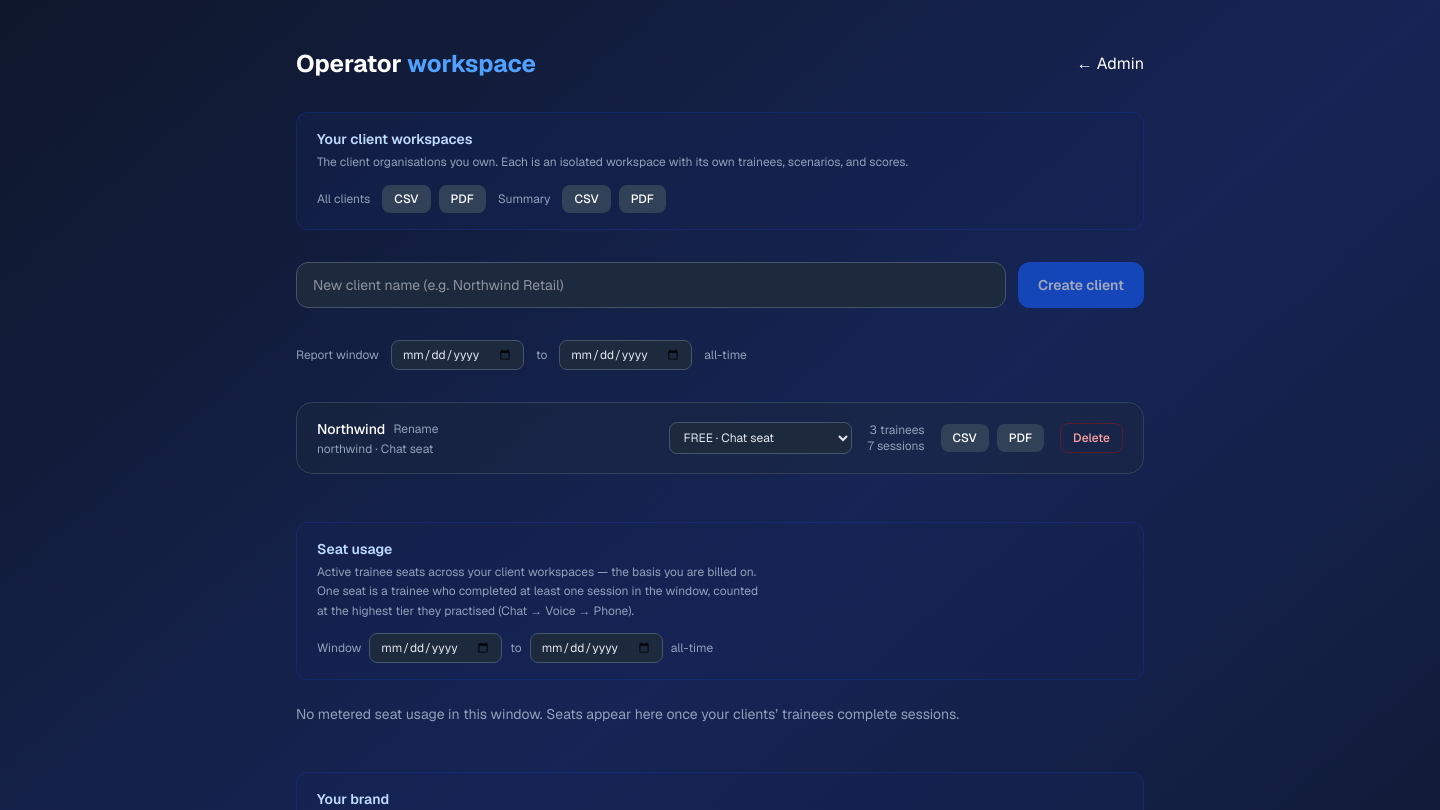
Test: Operator workspace — operator view › allocates a client’s seat tier (PUT /api/orgs/[id]) and reloads
The image size is (1440, 810).
Expected: the text "Northwind" is shown, [317,418,385,438]
Expected: the text "northwind · Chat seat" is shown, [317,440,438,456]
Select "ENTERPRISE · Phone seat" in the dropdown named "Seat tier for Northwind" at x=760, y=438, box [669,422,852,454]
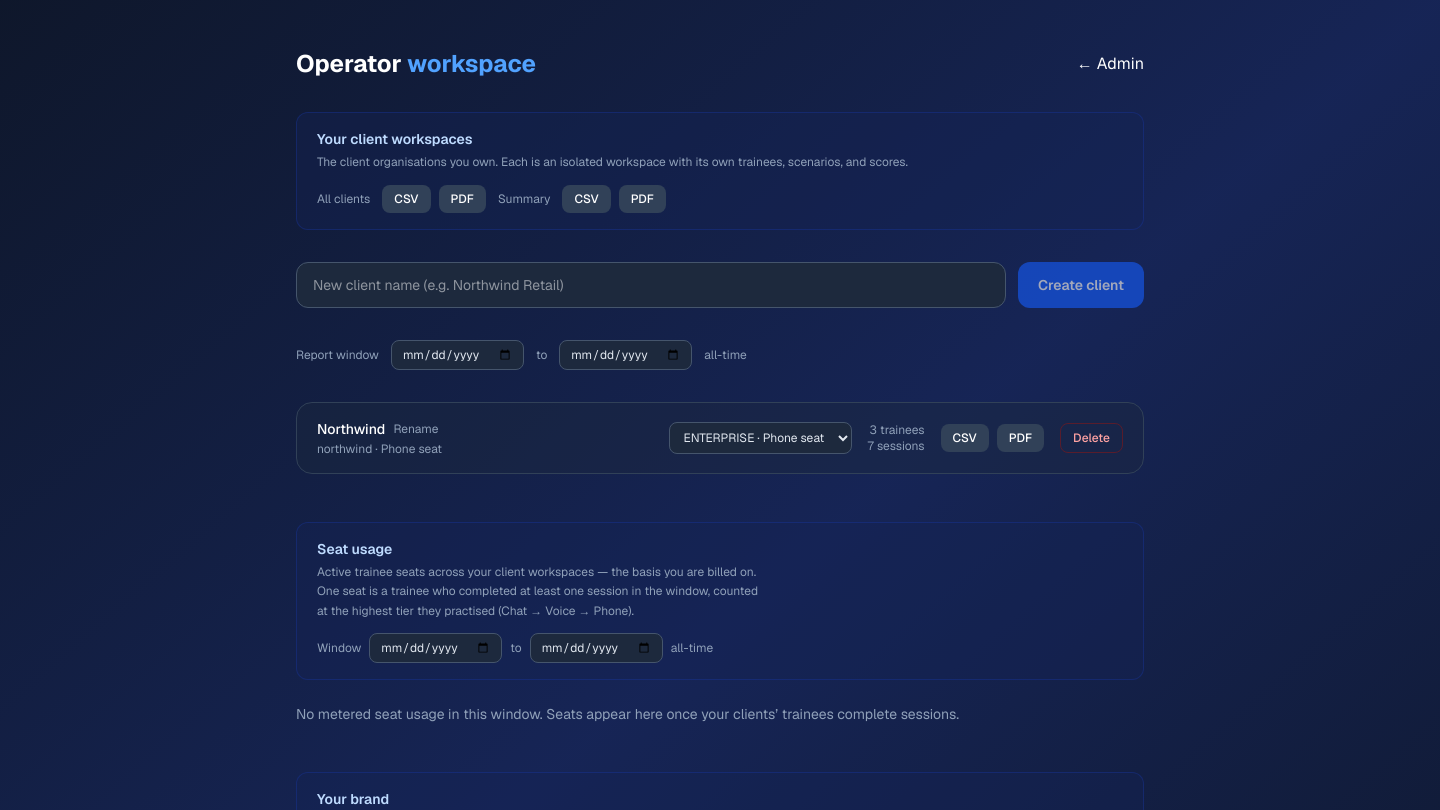
Now the text "northwind · Phone seat" is shown, box [317,440,442,456]
